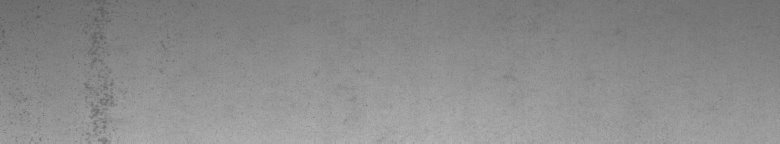ib: (18, 7, 115, 136)
